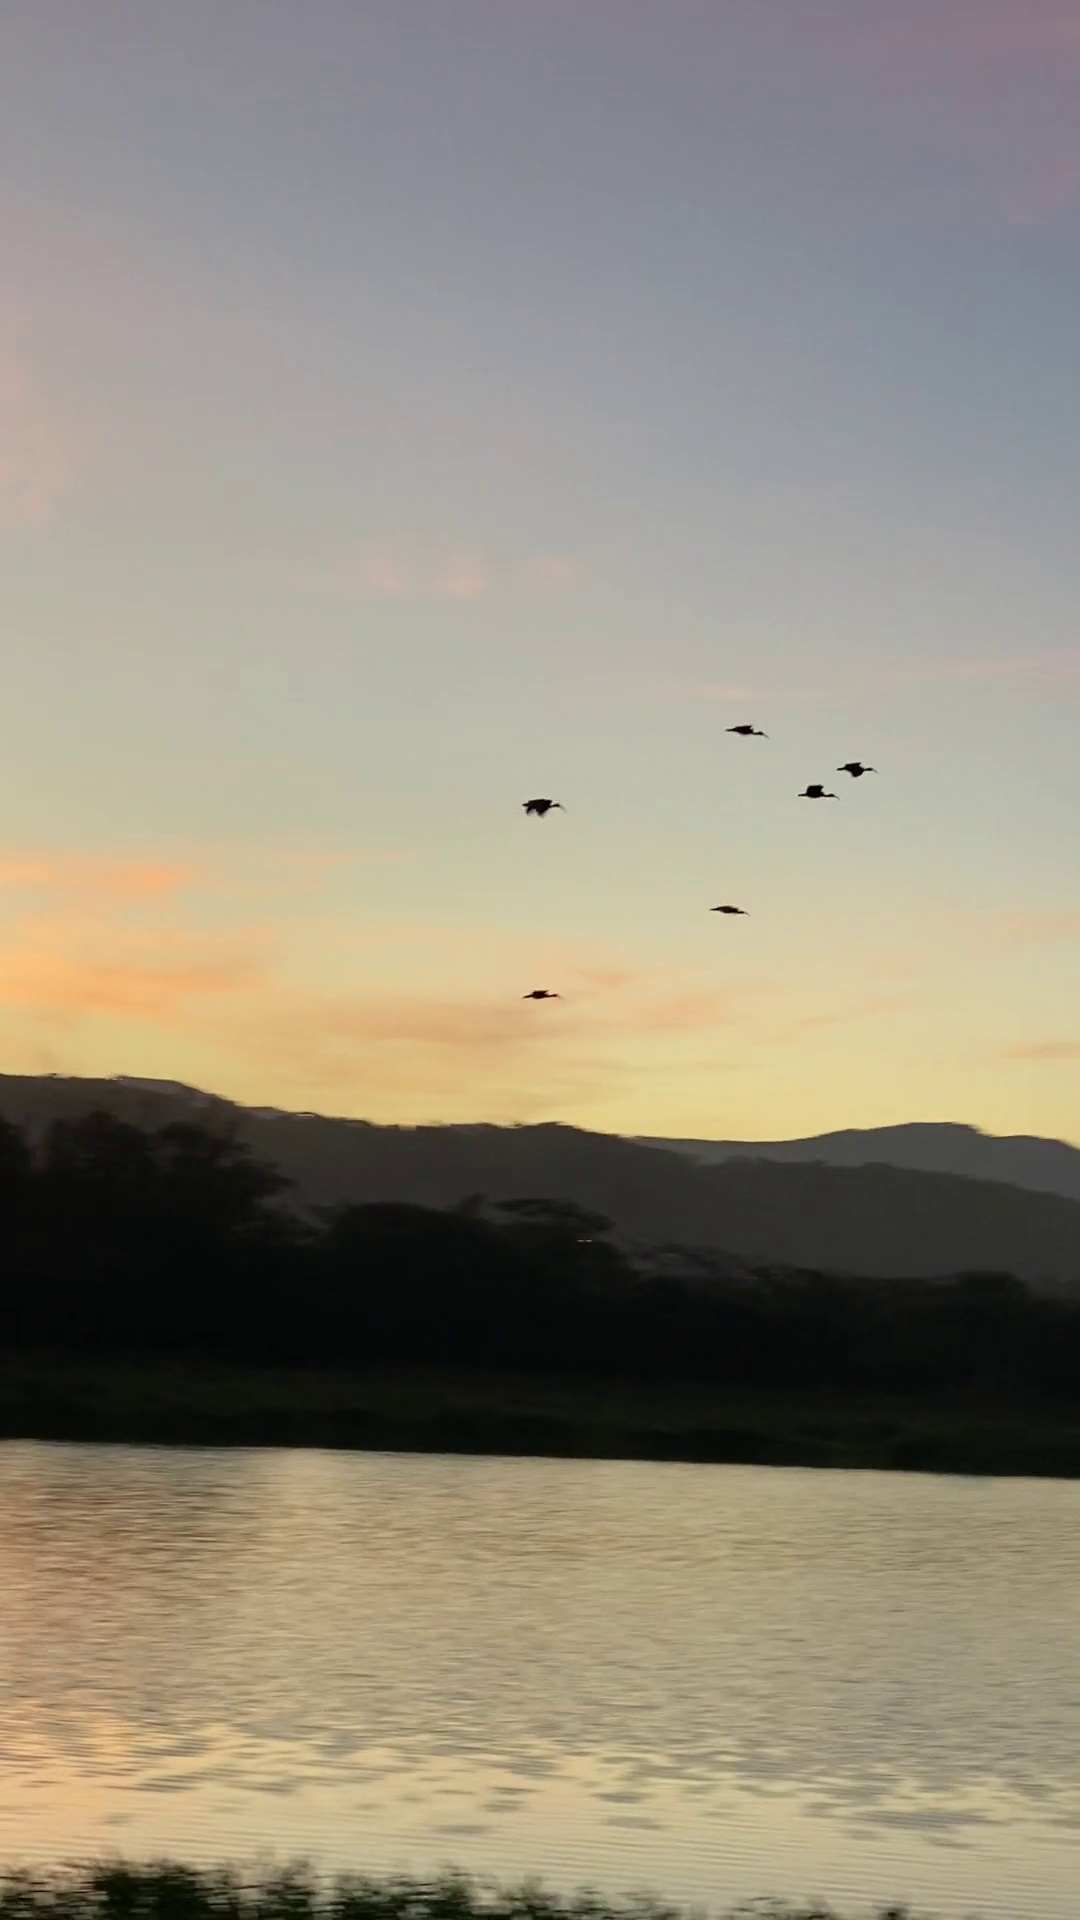bird: (524, 796, 564, 818), (836, 762, 877, 778), (727, 724, 767, 738), (799, 785, 840, 799), (711, 903, 746, 916), (522, 990, 558, 1002)
